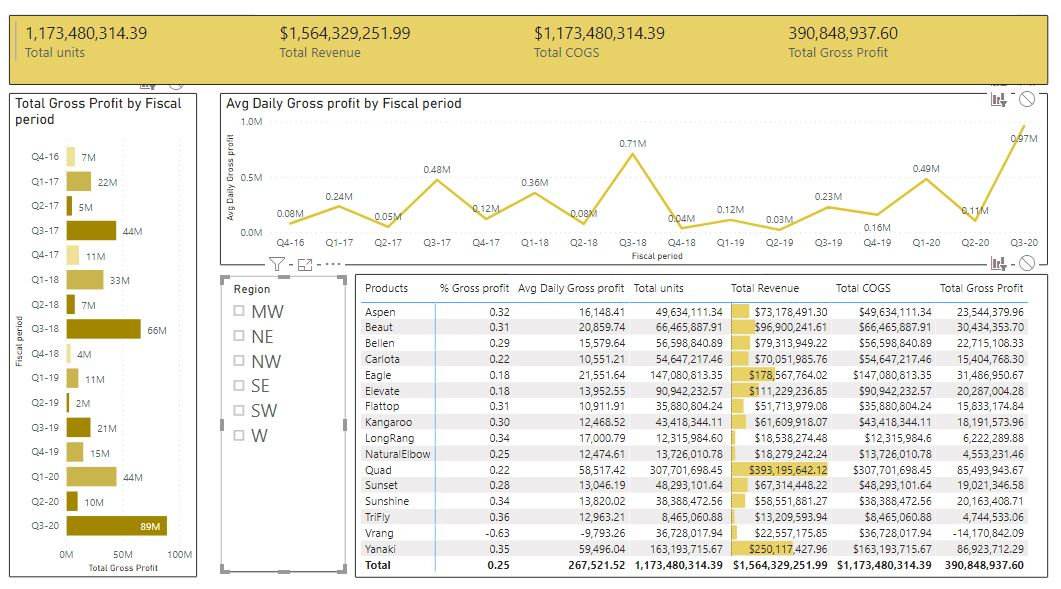

This screenshot's page, from the dashboard's own definition file:
{"tool":"powerbi","page":{"name":"Fiscal Report","canvas":[1280,720],"ordinal":1},"visuals":[{"type":"clusteredBarChart","fields":{"Category":["dtDate.Fiscal period"],"Y":["dProduct.Total Gross Profit"]},"box":[10.2,118.1,226,581.5],"z":0},{"type":"lineChart","fields":{"Category":["dtDate.Fiscal period"],"Y":["dProduct.Avg Daily Gross profit"]},"box":[264.6,118.1,994.9,206.7],"z":1000},{"type":"pivotTable","fields":{"Rows":["dProduct.Products"],"Values":["dProduct.% Gross profit","dProduct.Avg Daily Gross profit","dtDate.Total units","dtDate.Total Revenue","dtDate.Total COGS","dProduct.Total Gross Profit"]},"box":[427,335,832.5,364.6],"z":2000},{"type":"multiRowCard","fields":{"Values":["dtDate.Total units","dtDate.Total Revenue","dtDate.Total COGS","dProduct.Total Gross Profit"]},"box":[10.2,23.9,1249.3,84],"z":3000},{"type":"slicer","fields":{"Values":["dSalesReps.Region Hierarchy.Region"]},"box":[265.2,338.3,150.2,355.9],"z":4000}]}

Visuals, with their boxes in screenshot pixels (x1, y1, x2, y2), scaled from the page's 1280x720 canvas onto the 1061x589 screenshot:
clusteredBarChart - dtDate.Fiscal period x dProduct.Total Gross Profit: [8, 97, 196, 572]
lineChart - dtDate.Fiscal period x dProduct.Avg Daily Gross profit: [219, 97, 1044, 266]
pivotTable - dProduct.Products x dProduct.% Gross profit: [354, 274, 1044, 572]
multiRowCard - dtDate.Total units x dtDate.Total Revenue: [8, 20, 1044, 88]
slicer - dSalesReps.Region Hierarchy.Region: [220, 277, 344, 568]
